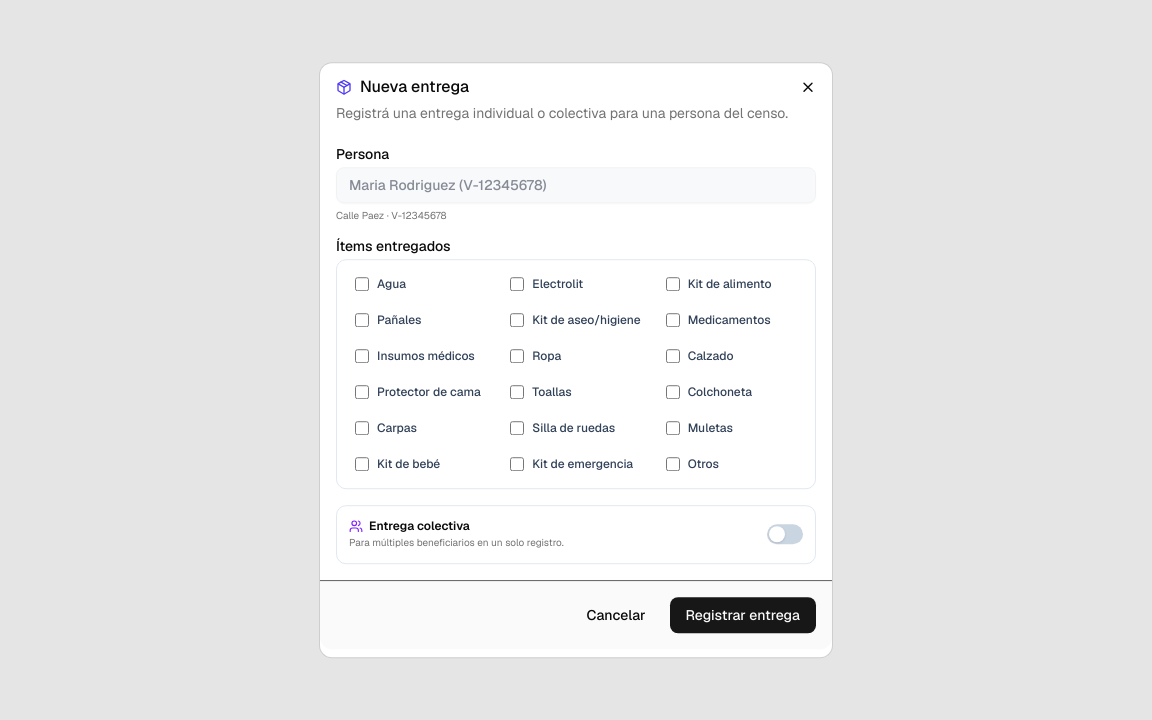
Test: QuickDeliveryDialog › blocks submit when colectiva is on but beneficiary_count < 1
Click the checkbox labelled "Entrega colectiva" at (409, 526), box [349,518,470,534]
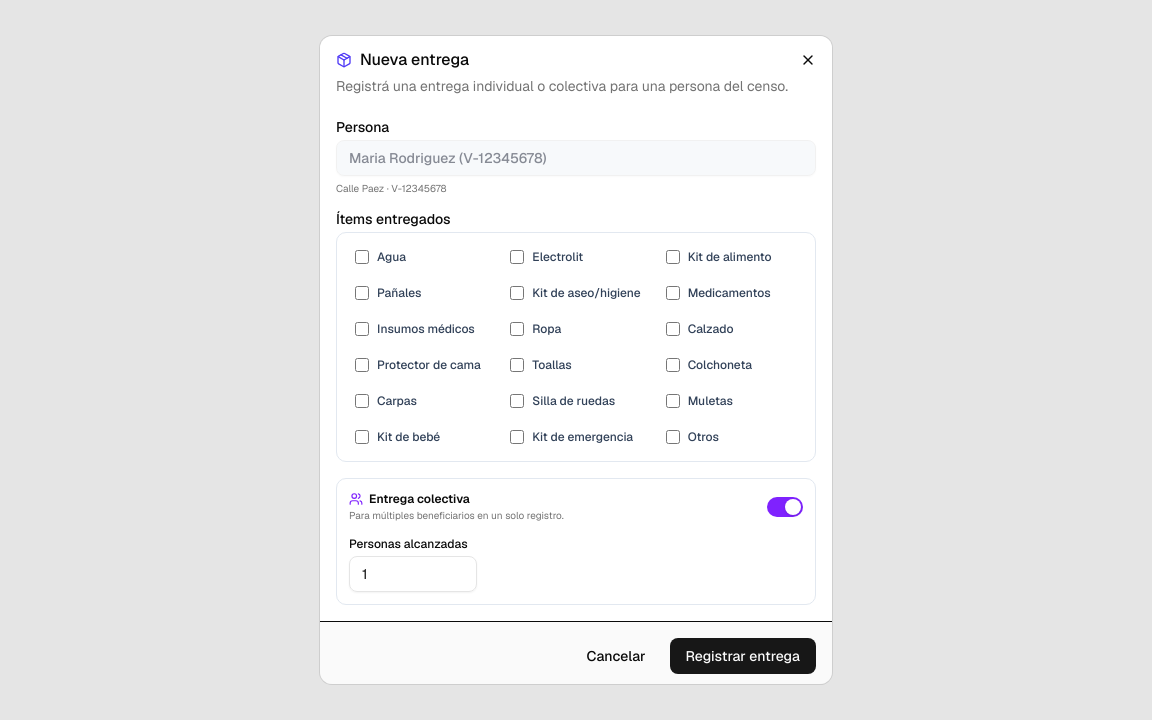
Click the checkbox labelled "Agua" at (362, 257), box [355,250,369,264]
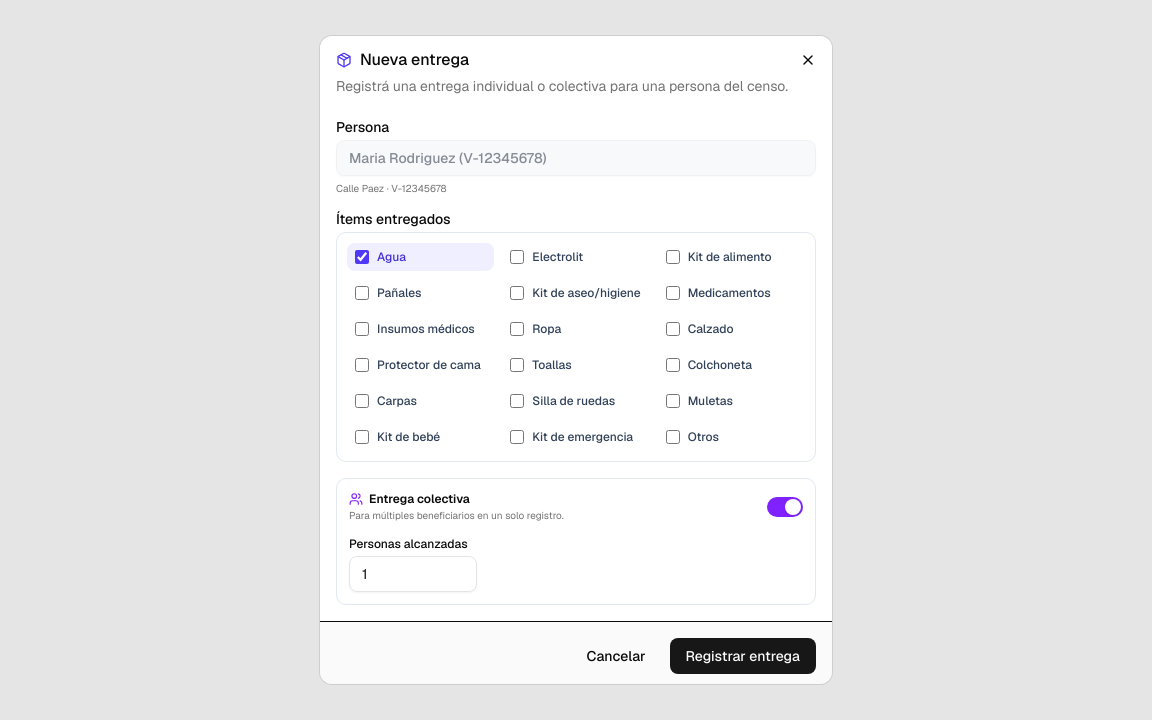
Replace the text in the number field labelled "Personas alcanzadas" with "0" at (413, 574), box [349,556,477,592]
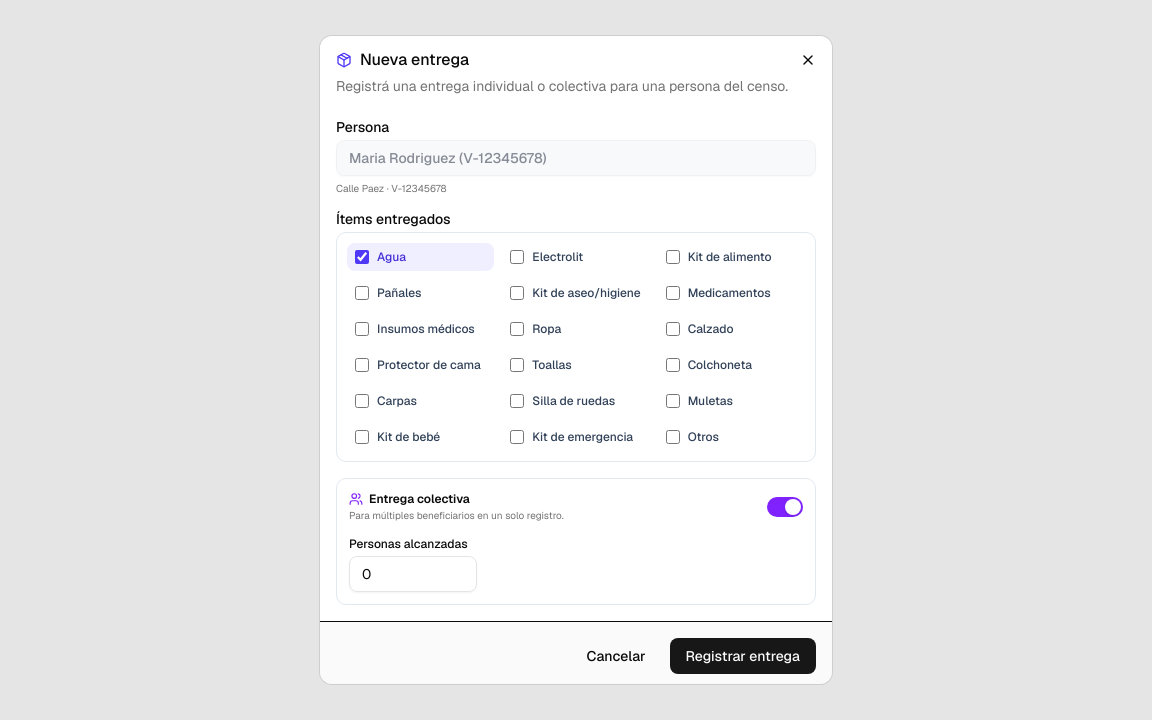
Submit the form, box [336,112,816,682]
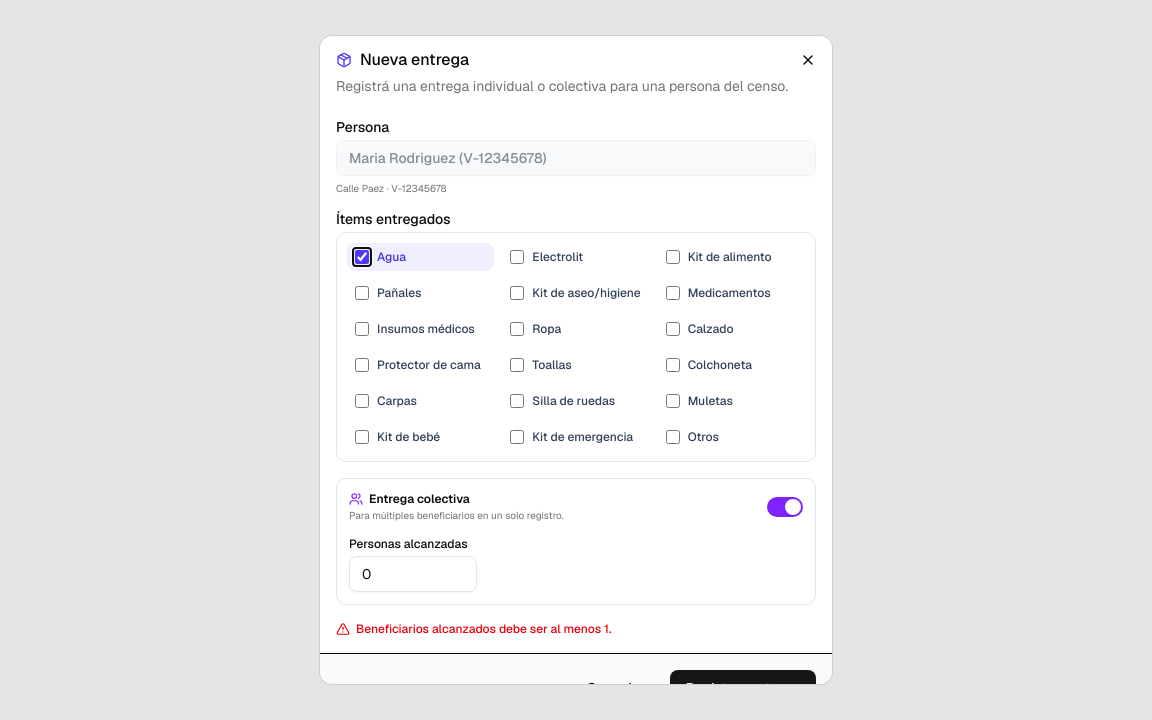
Now the text "Beneficiarios alcanzados debe ser al menos 1." is shown, box [336,621,612,637]
